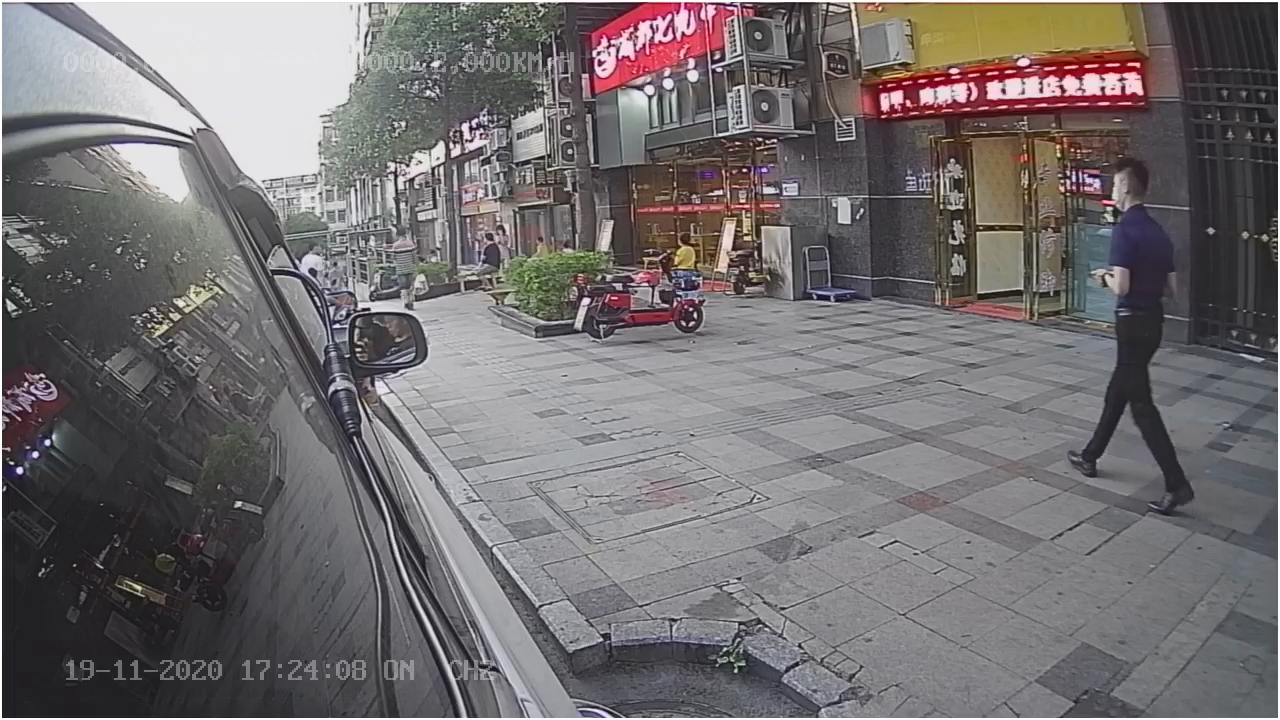person: (1068, 155, 1202, 520)
